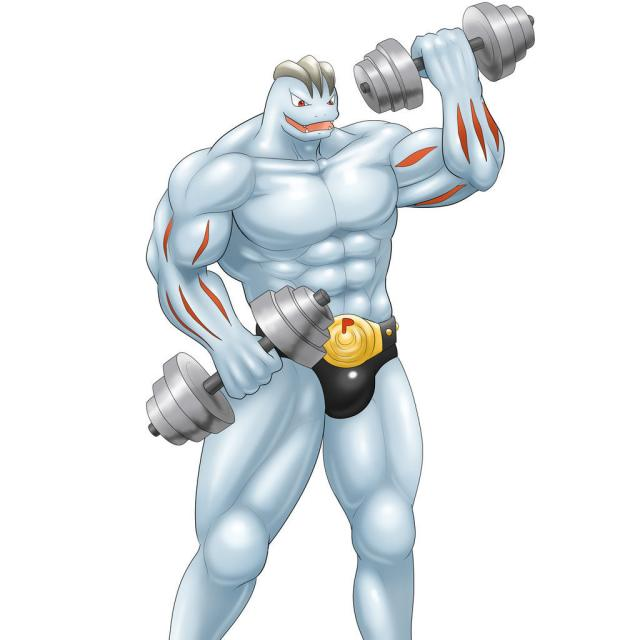Machoke: (147, 31, 509, 639)
